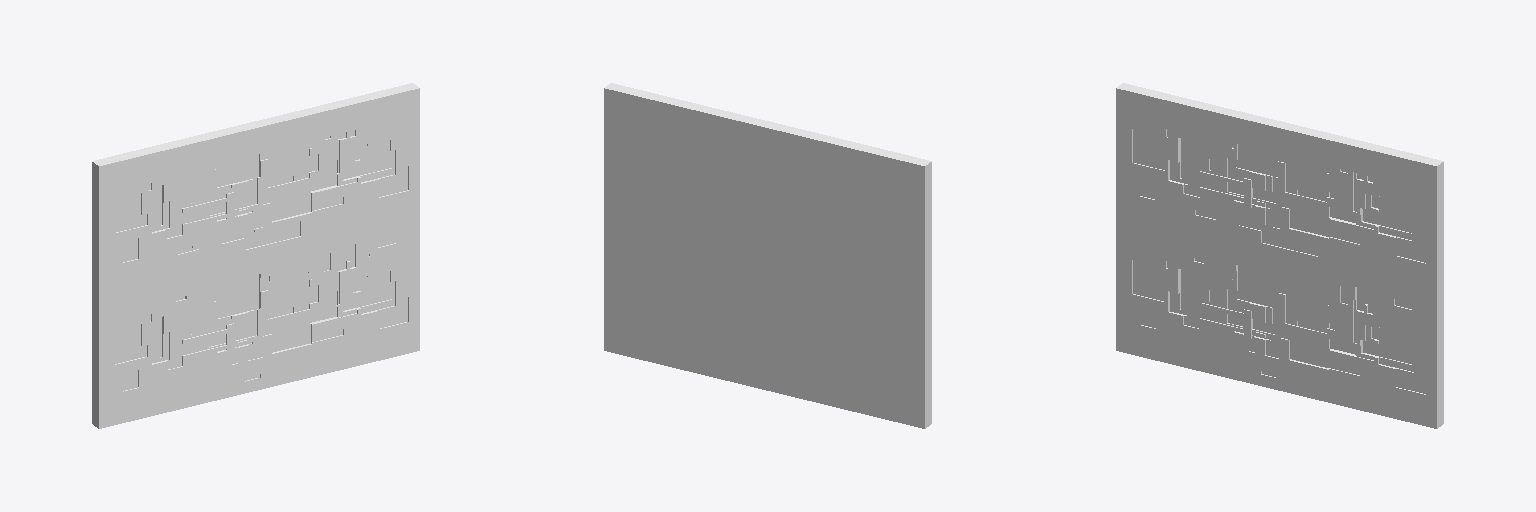
File: stena.obj
3 views of the same model, side by side, from view 1: azimuth 30°, elevation 25°; view 2: azimuth 150°, elevation 25°; view 3: azimuth 330°, elevation 25° (orthographic).
Parts seen in each view (by area): view 1: object 1; view 2: object 1; view 3: object 1.
Part boxes in pixels (bbox=[...]): object 1: bbox=[92, 83, 419, 428]; object 1: bbox=[604, 83, 931, 428]; object 1: bbox=[1116, 83, 1443, 428].
Bounding box in the file's own units: 25.6 × 20 × 1.